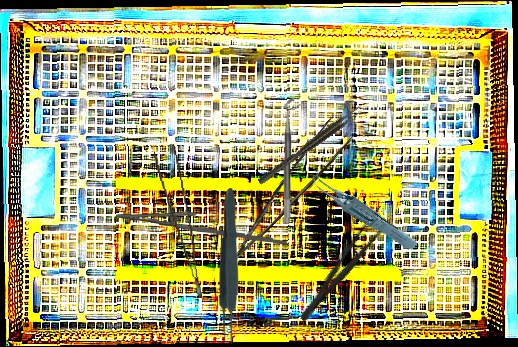Dressing Forceps: (293, 203, 395, 327)
Fixation Ring: (282, 97, 303, 225)
Needle Holder: (115, 200, 289, 246)
Tissue Forceps: (207, 113, 360, 267), (308, 151, 419, 269), (255, 105, 364, 185), (153, 148, 203, 302), (216, 187, 241, 346)
